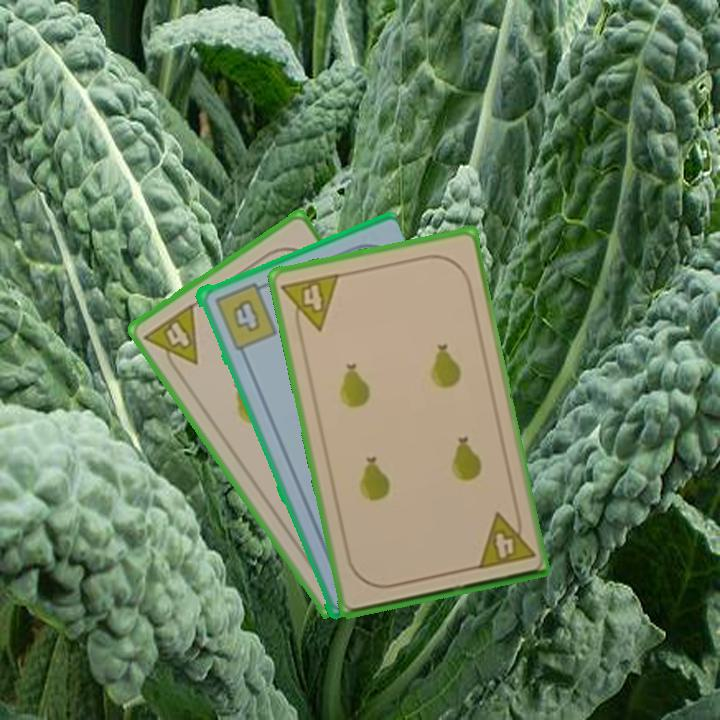4b: (210, 278, 280, 352)
4p: (140, 300, 201, 379), (278, 270, 343, 338), (473, 506, 537, 572)
